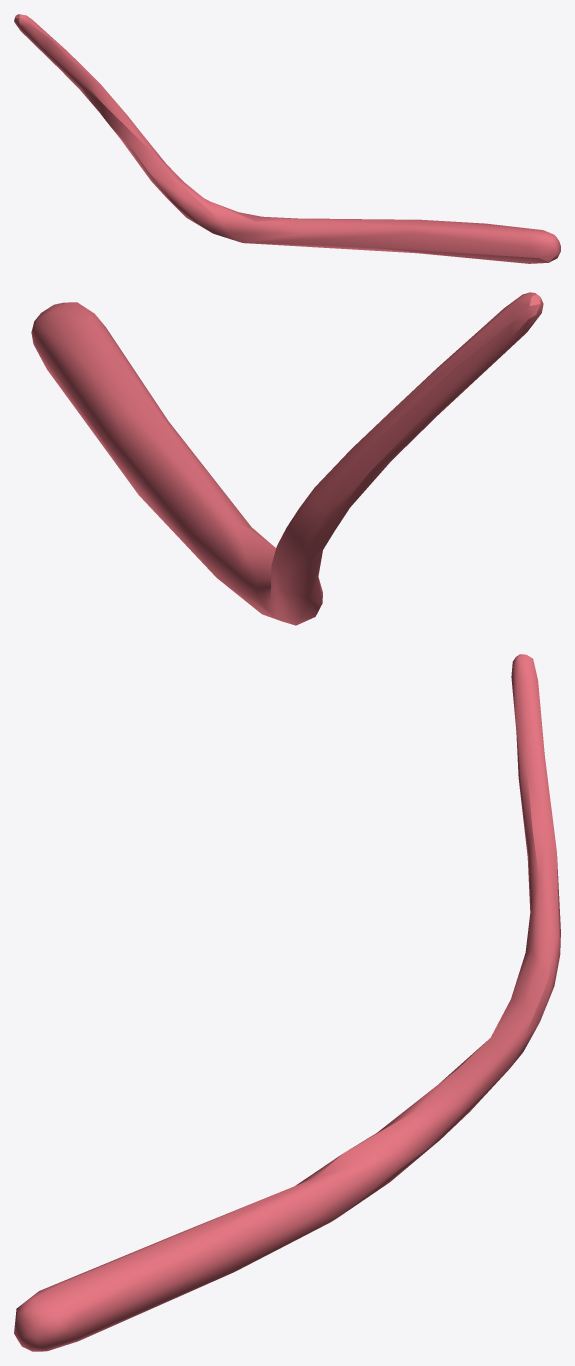
The model's file is fma8670_fj3051.glb.
3 renders of one model, top to bottom at view 1: azimuth 30°, elevation 25°; view 2: azimuth 150°, elevation 25°; view 3: azimuth 270°, elevation 25°, orthographic. The views are drawn at different scales.
Visible parts, largest first — view 1: FMA8670_FJ3051; view 2: FMA8670_FJ3051; view 3: FMA8670_FJ3051.
Boxes of the visible parts, <box> form: FMA8670_FJ3051: <box>14,14,560,263</box>; FMA8670_FJ3051: <box>31,292,543,625</box>; FMA8670_FJ3051: <box>14,654,560,1351</box>.
Size of the model in its own units: 0.052 by 0.0298 by 0.0373.
